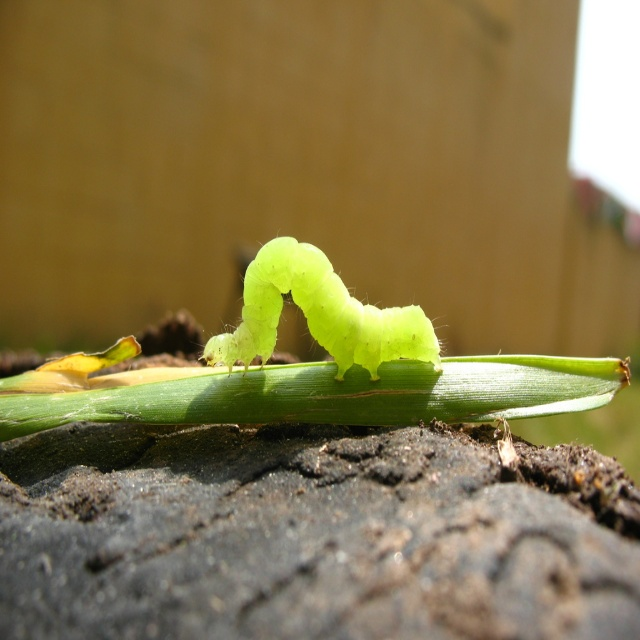Caterpillar: (190, 234, 452, 383)
